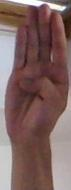B: (0, 1, 71, 133)
